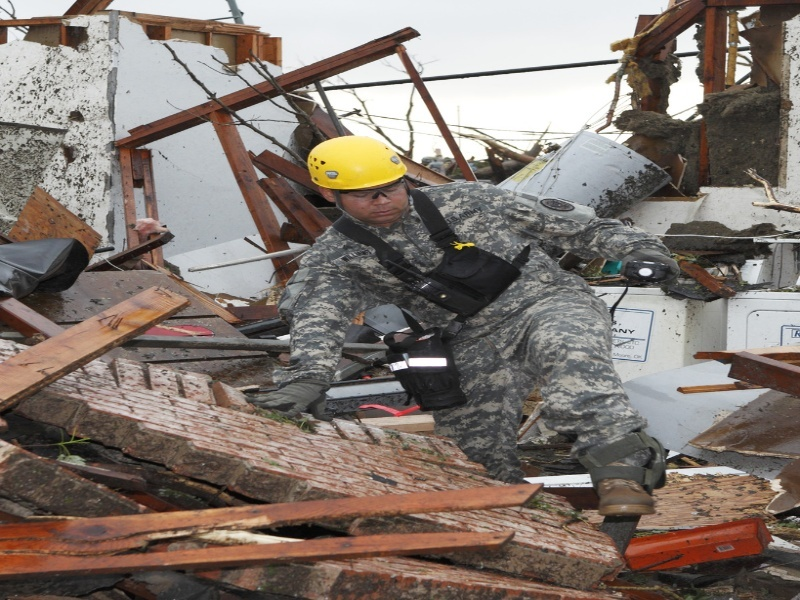Baret: (308, 135, 409, 188)
Gozluk: (342, 185, 413, 201)
